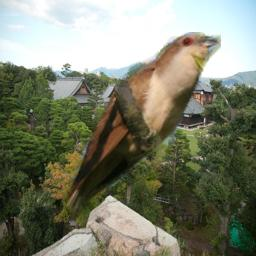Cuckoo: (58, 32, 221, 223)
